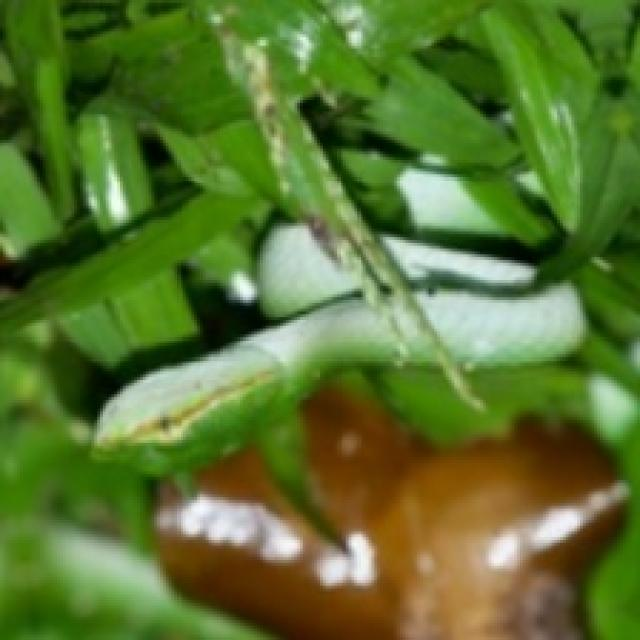north ph temple pitviper: (94, 226, 400, 471), (386, 237, 583, 366)
